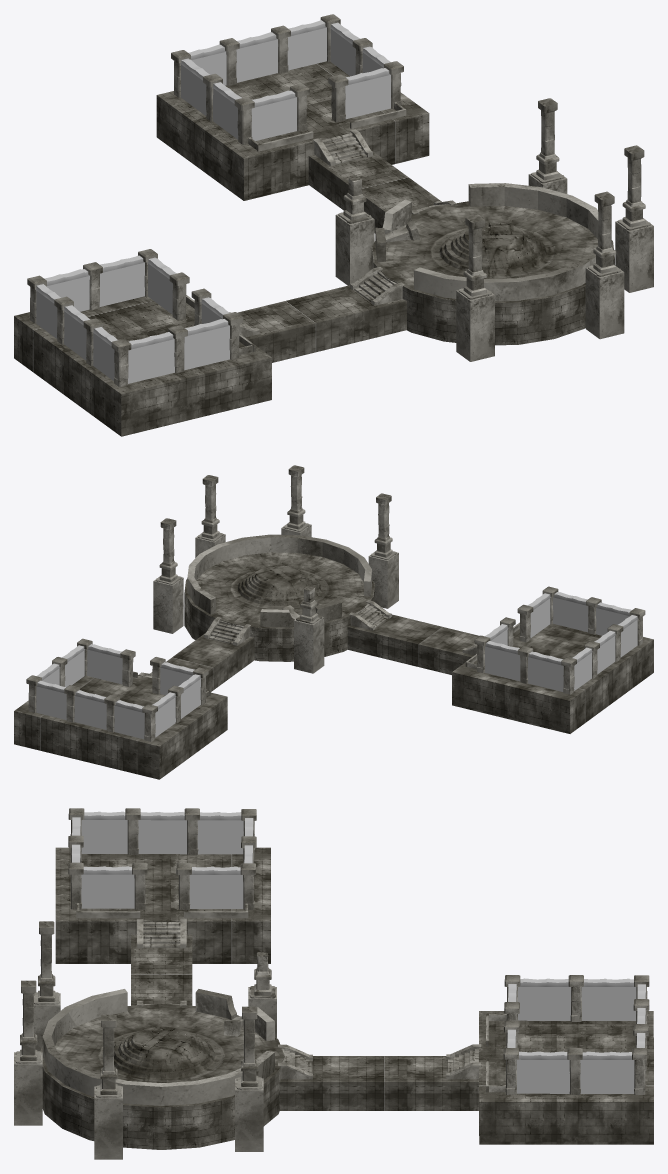
The model's file is Level_Design10.fbx.
3 renders of one model, top to bottom at view 1: azimuth 30°, elevation 25°; view 2: azimuth 150°, elevation 25°; view 3: azimuth 270°, elevation 25°, orthographic. The views are drawn at different scales.
Parts seen in each view (by area): view 1: Levels_Base1 (×2), Levels_pCylinder1, Levels_Bridge_ish (×2), Levels_pCube4 (×4), Levels_pCylinder2, Levels_Full_Pillar (×4), Levels_Wall4 (×2), Levels_Wall (×2), Levels_Wall5 (×2), Levels_Wall10 (×2), Levels_Wall7 (×2), Levels_Wall9 (×2) (+8 smaller); view 2: Levels_Base1 (×2), Levels_pCylinder1, Levels_Bridge_ish (×2), Levels_pCylinder2, Levels_pCube4 (×3), Levels_Full_Pillar (×4), Levels_Wall (×2), Levels_Wall6 (×2), Levels_Wall10 (×2), Levels_Wall7 (×2), Levels_Wall8 (×2), Levels_Wall4 (×2) (+5 smaller); view 3: Levels_Base1 (×2), Levels_pCylinder1, Levels_Bridge_ish (×2), Levels_pCylinder2, Levels_pCube4 (×4), Levels_Full_Pillar (×4), Levels_Wall9, Levels_Wall5, Levels_Wall2, Levels_Wall4, Levels_Wall6, Levels_Wall (+16 smaller).
Boxes of the visible parts, x1=… form: Levels_Base1 (×2): x1=14, y1=61, x2=429, y2=436; Levels_pCylinder1: x1=371, y1=201, x2=614, y2=345; Levels_Bridge_ish (×2): x1=237, y1=150, x2=441, y2=362; Levels_pCube4 (×4): x1=335, y1=214, x2=653, y2=361; Levels_pCylinder2: x1=375, y1=183, x2=598, y2=301; Levels_Full_Pillar (×4): x1=458, y1=98, x2=650, y2=299; Levels_Wall4 (×2): x1=128, y1=58, x2=209, y2=383; Levels_Wall (×2): x1=184, y1=82, x2=241, y2=370; Levels_Wall5 (×2): x1=147, y1=68, x2=390, y2=314; Levels_Wall10 (×2): x1=63, y1=32, x2=277, y2=360; Levels_Wall7 (×2): x1=35, y1=20, x2=326, y2=338; Levels_Wall9 (×2): x1=44, y1=22, x2=360, y2=311; Levels_Base1 (×2): x1=14, y1=624, x2=653, y2=779; Levels_pCylinder1: x1=184, y1=552, x2=374, y2=661; Levels_Bridge_ish (×2): x1=150, y1=614, x2=479, y2=691; Levels_pCylinder2: x1=187, y1=534, x2=371, y2=627; Levels_pCube4 (×3): x1=153, y1=552, x2=398, y2=673; Levels_Full_Pillar (×4): x1=155, y1=465, x2=396, y2=584; Levels_Wall (×2): x1=178, y1=592, x2=588, y2=718; Levels_Wall6 (×2): x1=62, y1=641, x2=520, y2=687; Levels_Wall10 (×2): x1=74, y1=630, x2=615, y2=729; Levels_Wall7 (×2): x1=36, y1=647, x2=592, y2=719; Levels_Wall8 (×2): x1=114, y1=615, x2=637, y2=739; Levels_Wall4 (×2): x1=152, y1=602, x2=631, y2=737; Levels_Base1 (×2): x1=55, y1=847, x2=653, y2=1144; Levels_pCylinder1: x1=40, y1=1003, x2=284, y2=1149; Levels_Bridge_ish (×2): x1=131, y1=934, x2=478, y2=1110; Levels_pCylinder2: x1=42, y1=989, x2=274, y2=1105; Levels_pCube4 (×4): x1=14, y1=993, x2=263, y2=1159; Levels_Full_Pillar (×4): x1=15, y1=921, x2=262, y2=1097; Levels_Wall9: x1=580, y1=1051, x2=634, y2=1093; Levels_Wall5: x1=189, y1=866, x2=243, y2=908; Levels_Wall2: x1=81, y1=866, x2=134, y2=908; Levels_Wall4: x1=581, y1=978, x2=636, y2=1020; Levels_Wall6: x1=516, y1=1051, x2=569, y2=1093; Levels_Wall: x1=518, y1=978, x2=570, y2=1020.
Size of the model in its own units: 79.72 by 18.78 by 79.68.
